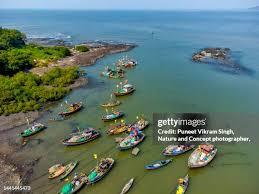fishing boat: (186, 141, 218, 170), (85, 155, 116, 184), (59, 125, 101, 146), (47, 157, 80, 181), (59, 169, 87, 194), (120, 127, 146, 151), (57, 99, 84, 117), (111, 78, 136, 97), (17, 121, 46, 137), (172, 172, 192, 194), (144, 157, 173, 172), (99, 108, 126, 123), (98, 95, 123, 108), (121, 175, 135, 194)
